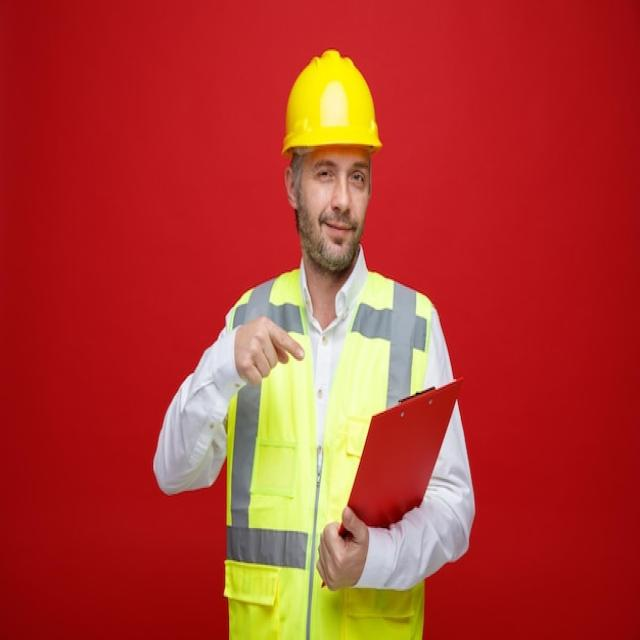helmet: (272, 33, 400, 170)
no-goggles: (293, 158, 376, 200)
vest: (214, 242, 456, 640)
